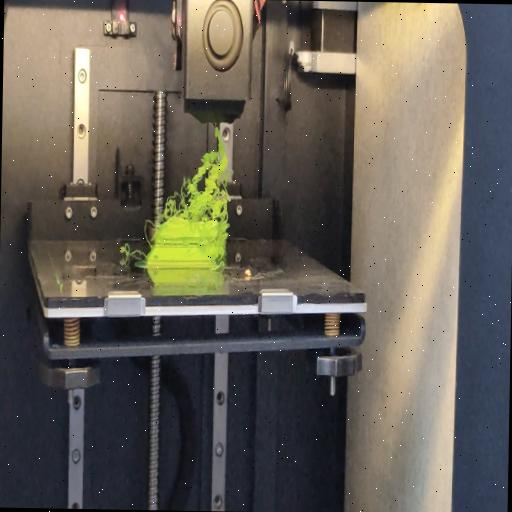spaghetti: (156, 125, 232, 224), (118, 243, 148, 262), (216, 223, 228, 270), (142, 215, 151, 242)
